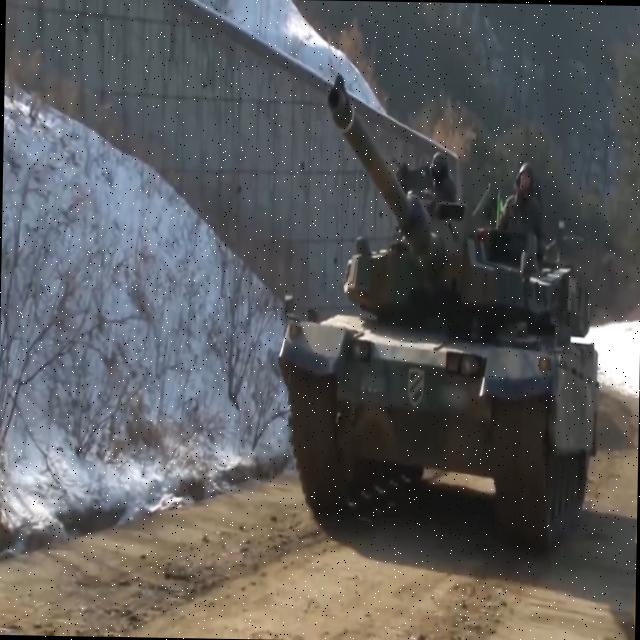korea tank: (274, 70, 606, 546)
